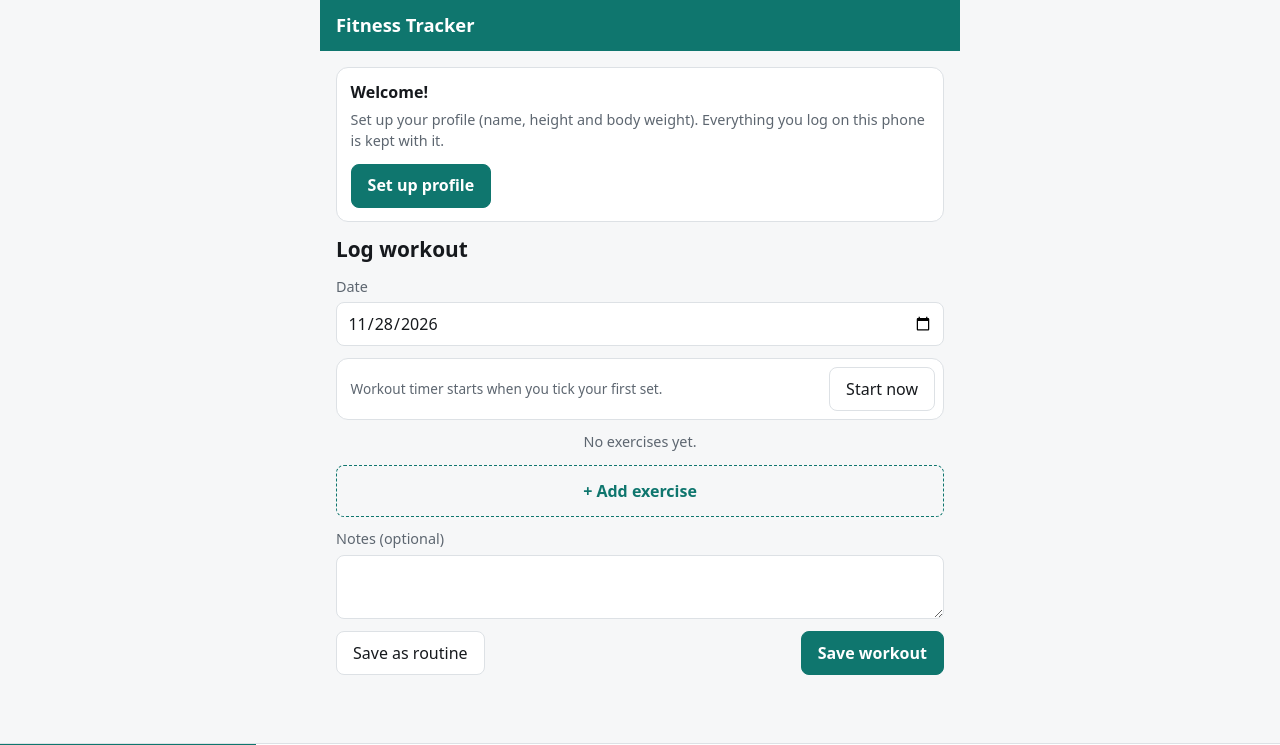
App › pre-fills when a card is renamed, leaving the tapped field for typing
This screenshot has width=1280, height=745.
Click the button "+ Add exercise" at (640,491), box [336,465,944,517]
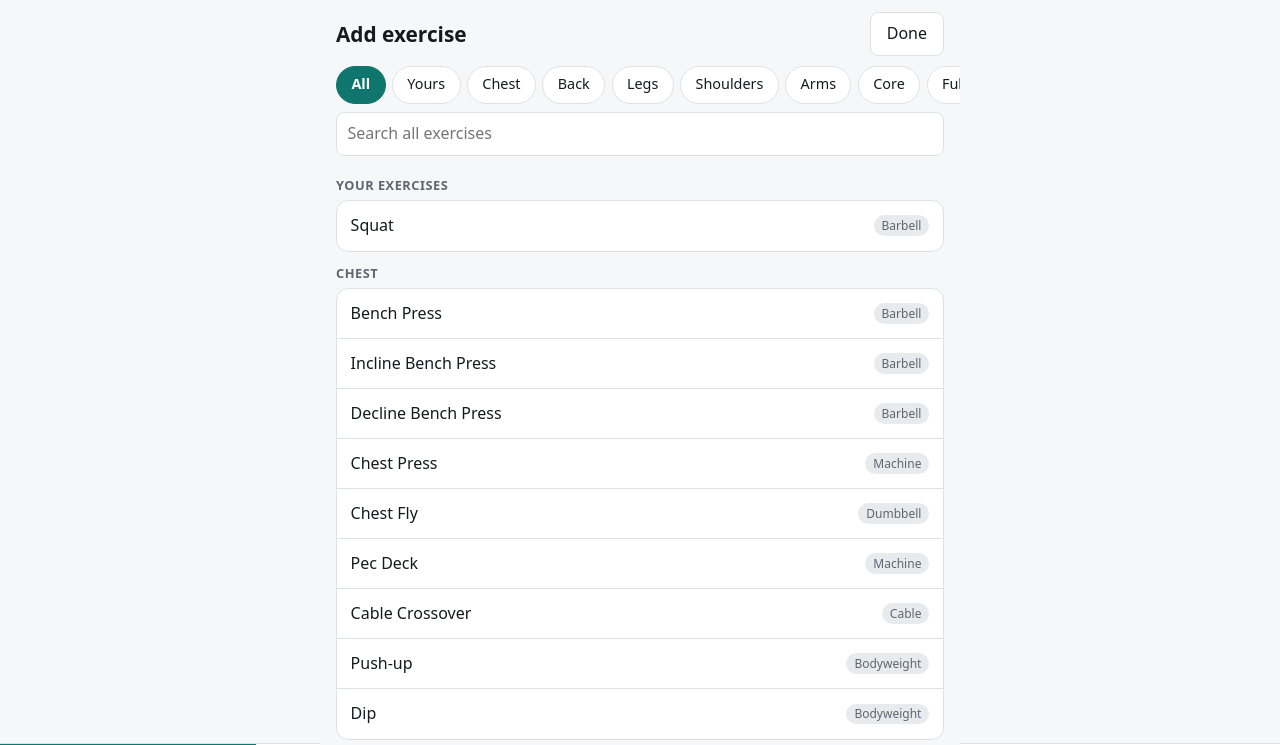
Type "Mystery Lift" into the search field named "Search exercises" at (640,134), box [336,112,944,156]
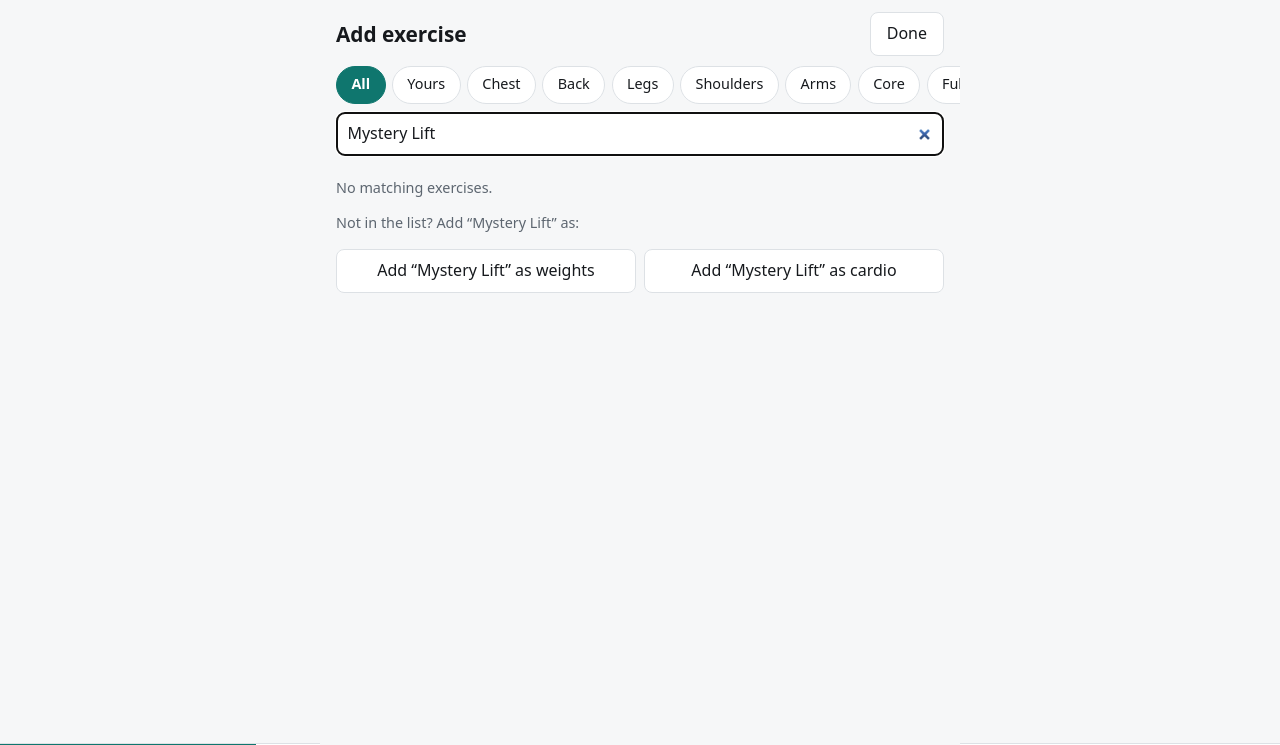
Click the button "Add “Mystery Lift” as weights" at (486,270), box [336,248,636,292]
(page scrolled)
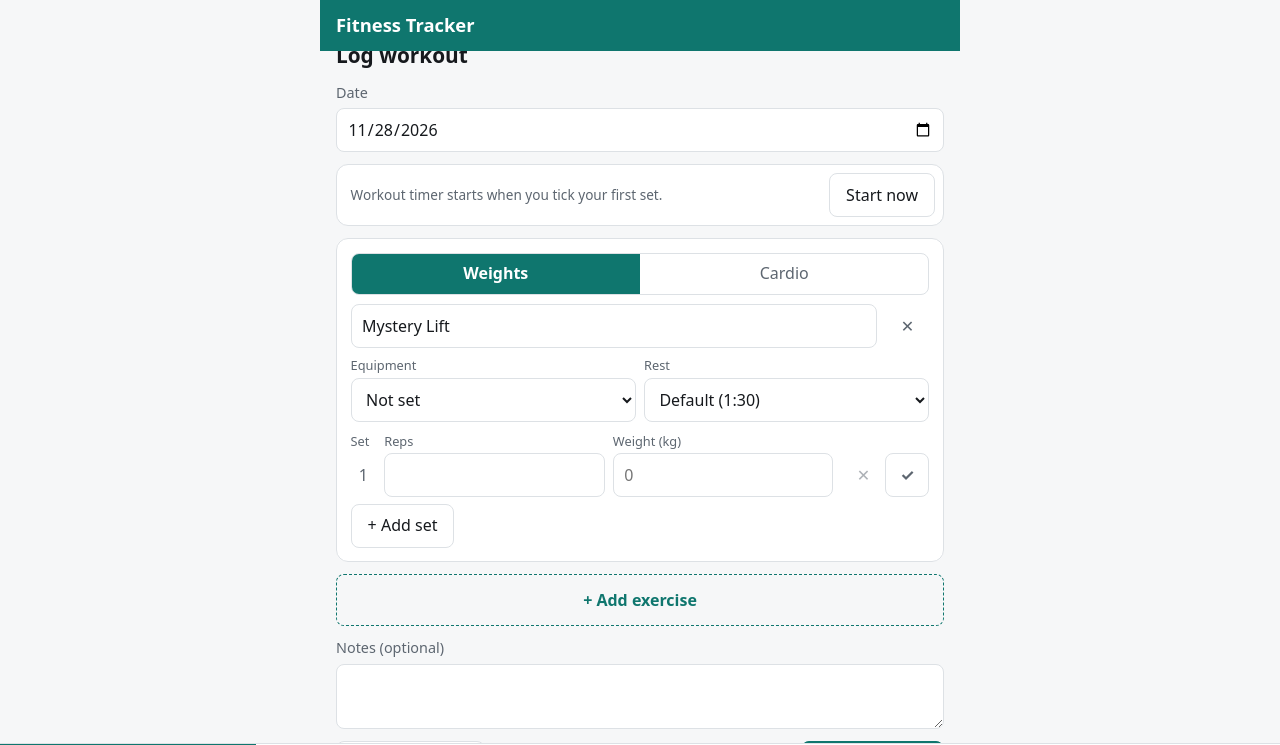
Replace the text in the field named "Exercise 1 name" with "Squat" at (614,326), box [351,304,877,348]
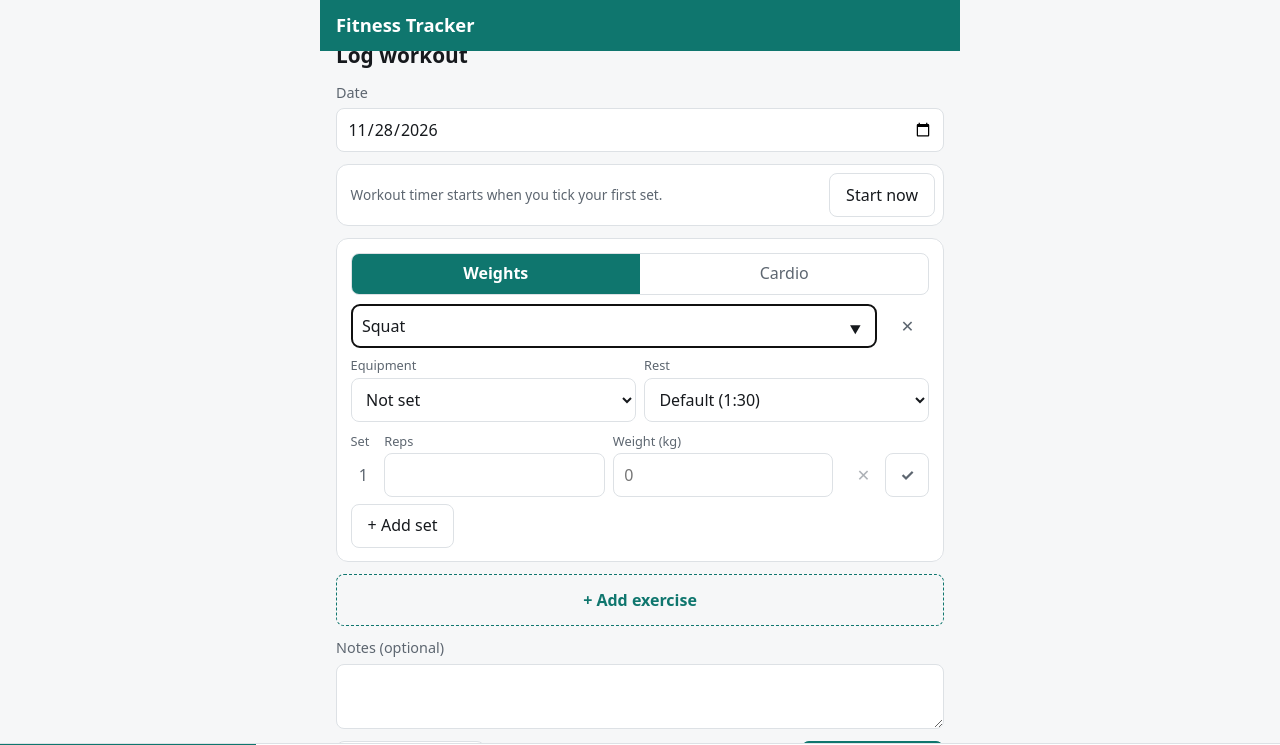
Click the field named "Exercise 1 set 1 reps" at (494,476), box [384,454,605,498]
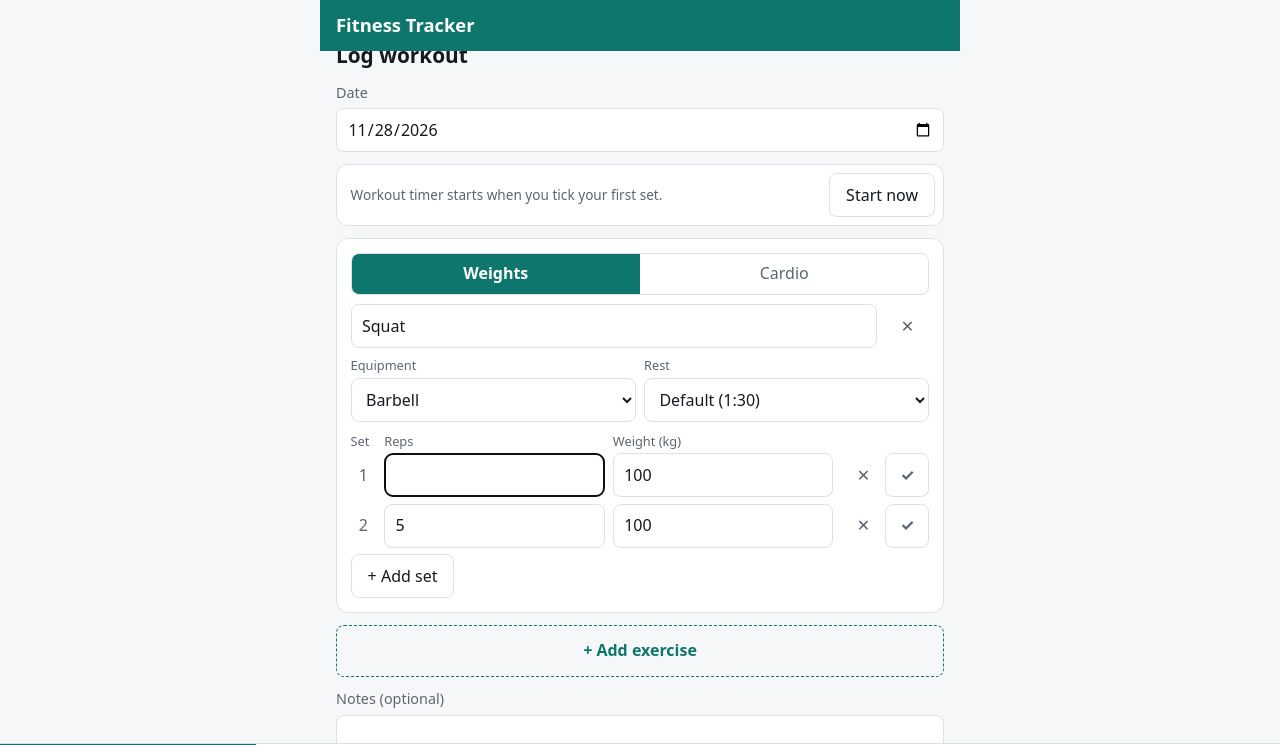
Type keys "3"
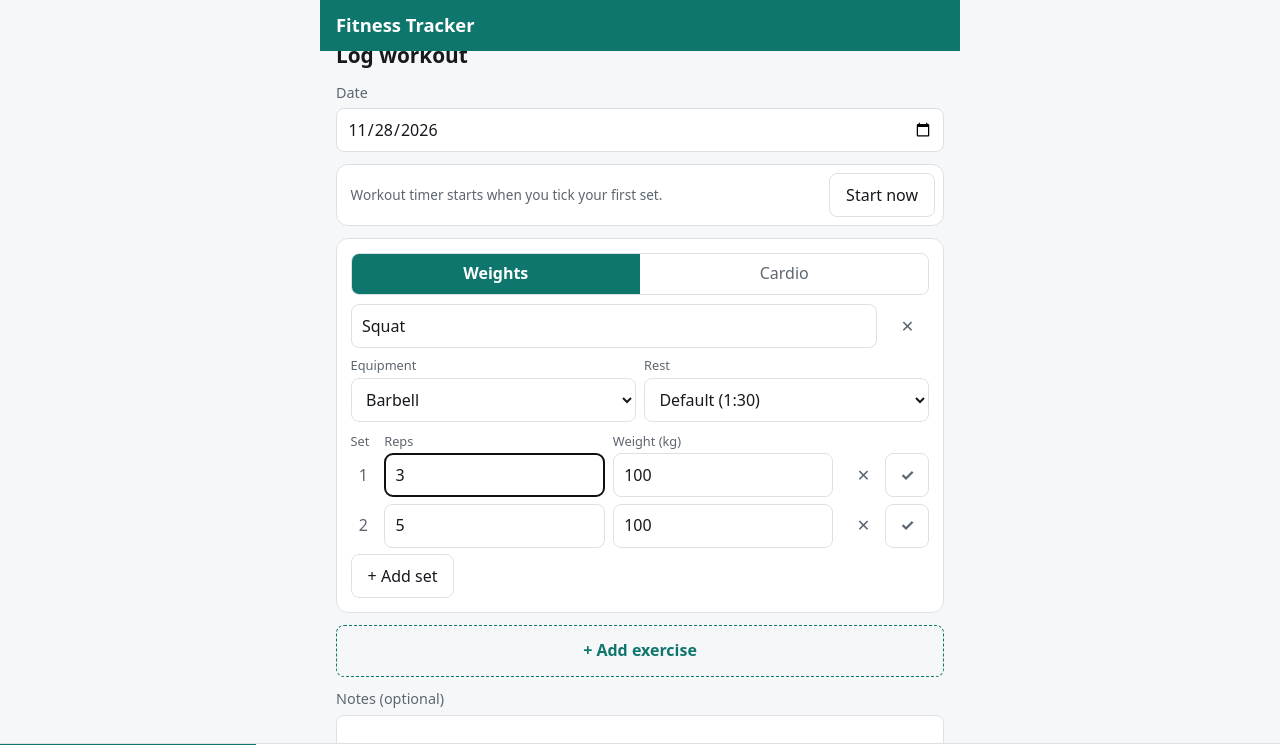
Expected: the field named "Exercise 1 set 1 weight" holds "100", [613,454,833,498]
Expected: the field named "Exercise 1 set 2 reps" holds "5", [384,504,605,548]
Expected: the field named "Exercise 1 set 1 reps" holds "3", [384,454,605,498]
